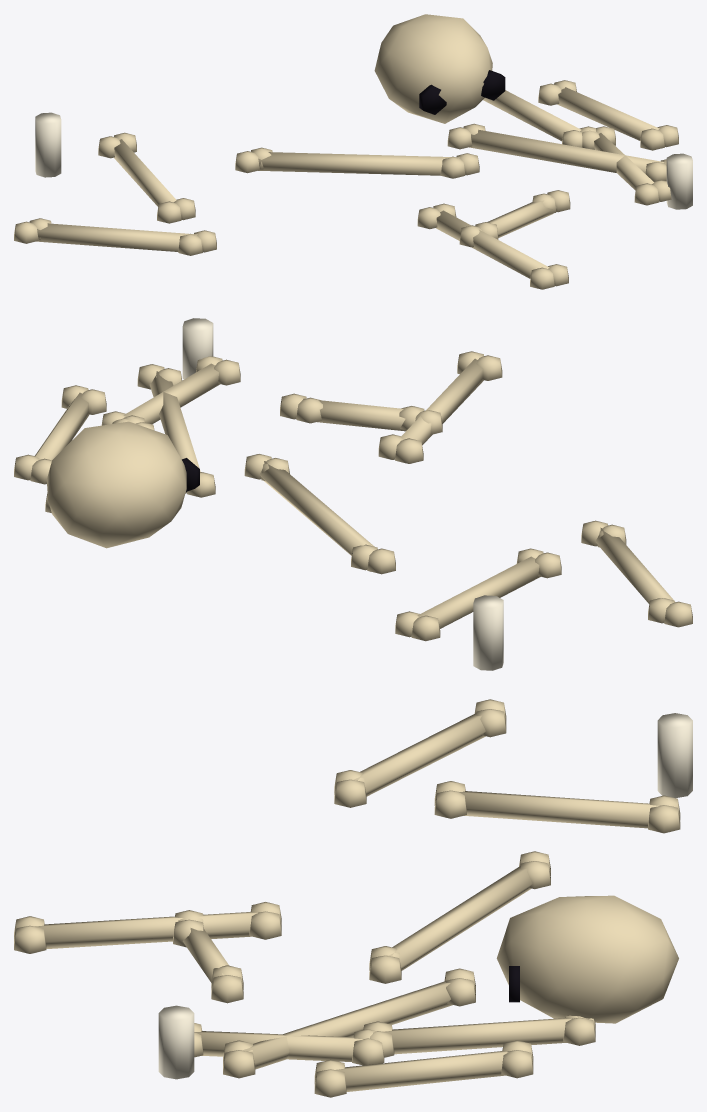
The model's file is bone_scatter.glb.
3 renders of one model, top to bottom at view 1: azimuth 30°, elevation 25°; view 2: azimuth 150°, elevation 25°; view 3: azimuth 270°, elevation 25°, orthographic. The views are drawn at different scales.
Parts seen in each view (by area): view 1: bone_scatter; view 2: bone_scatter; view 3: bone_scatter.
Part boxes in pixels (box(x1,y1,x2,y2)): bone_scatter: box(14, 14, 692, 289); bone_scatter: box(14, 318, 692, 670); bone_scatter: box(14, 699, 692, 1097).
Bounding box in the file's own units: 0.8222 × 0.1144 × 0.6126.
